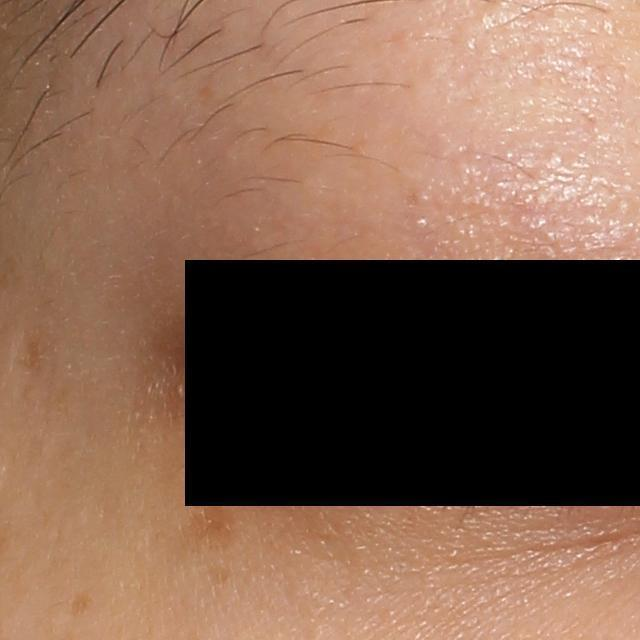melasma: (179, 493, 240, 553), (9, 332, 54, 389), (70, 589, 92, 618)
